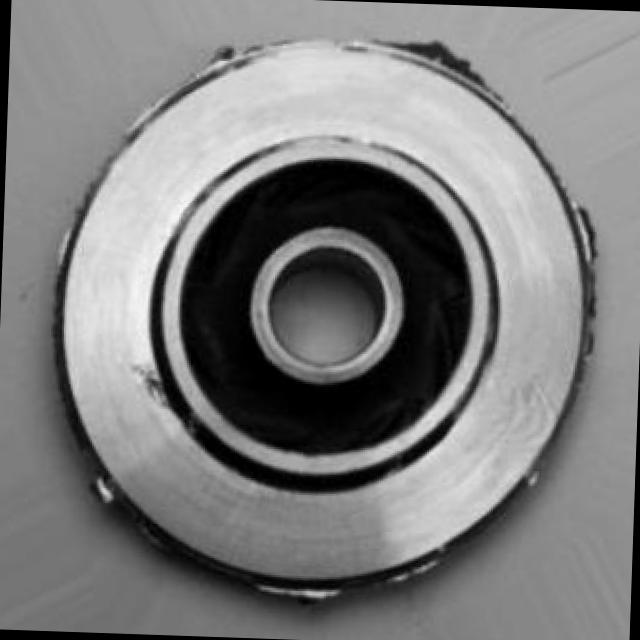Defect: (90, 468, 148, 534)
